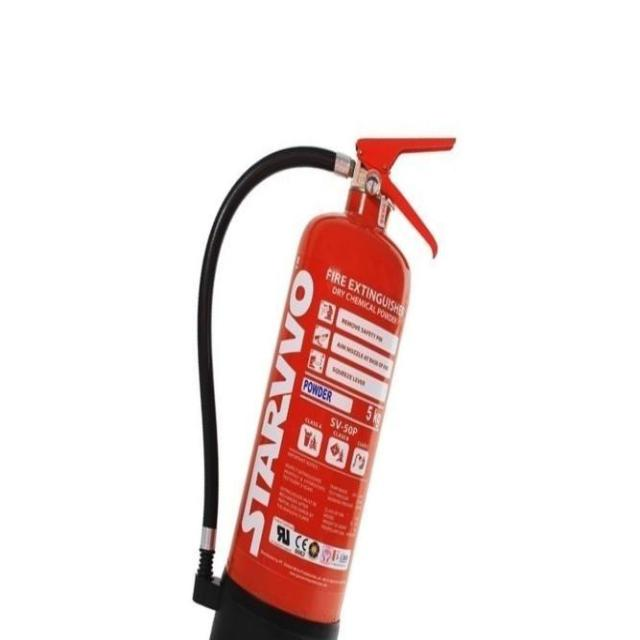fire_extinguisher: (184, 132, 458, 639)
